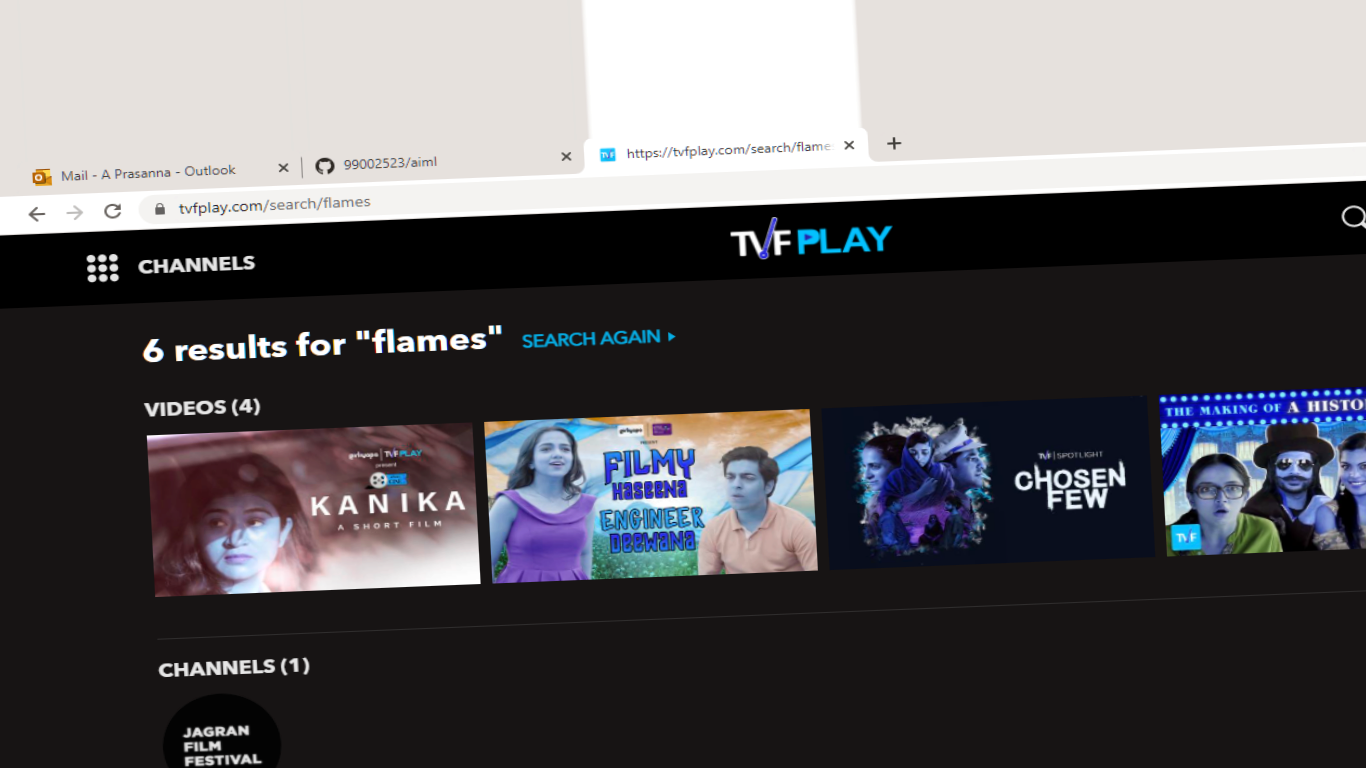resultsfound: (123, 294, 694, 382)
searchicon: (1312, 190, 1366, 240)
